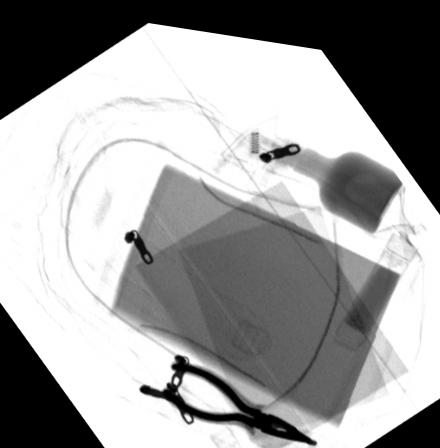Pliers: (161, 354, 317, 437)
